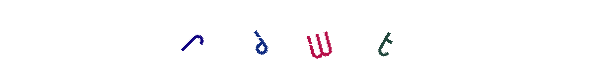D: (265, 0, 345, 80)
R: (243, 0, 323, 80)
T: (280, 0, 360, 80)
W: (265, 0, 345, 80)
